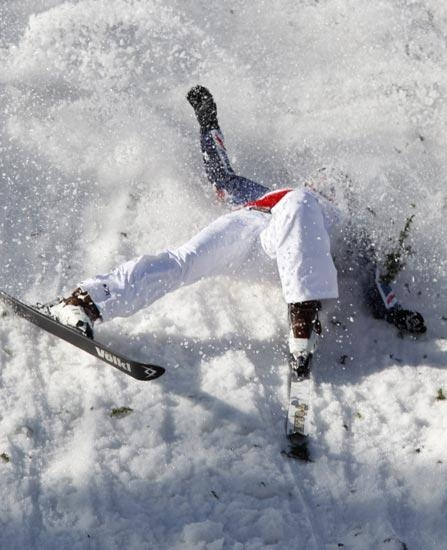falling: (47, 65, 441, 432)
